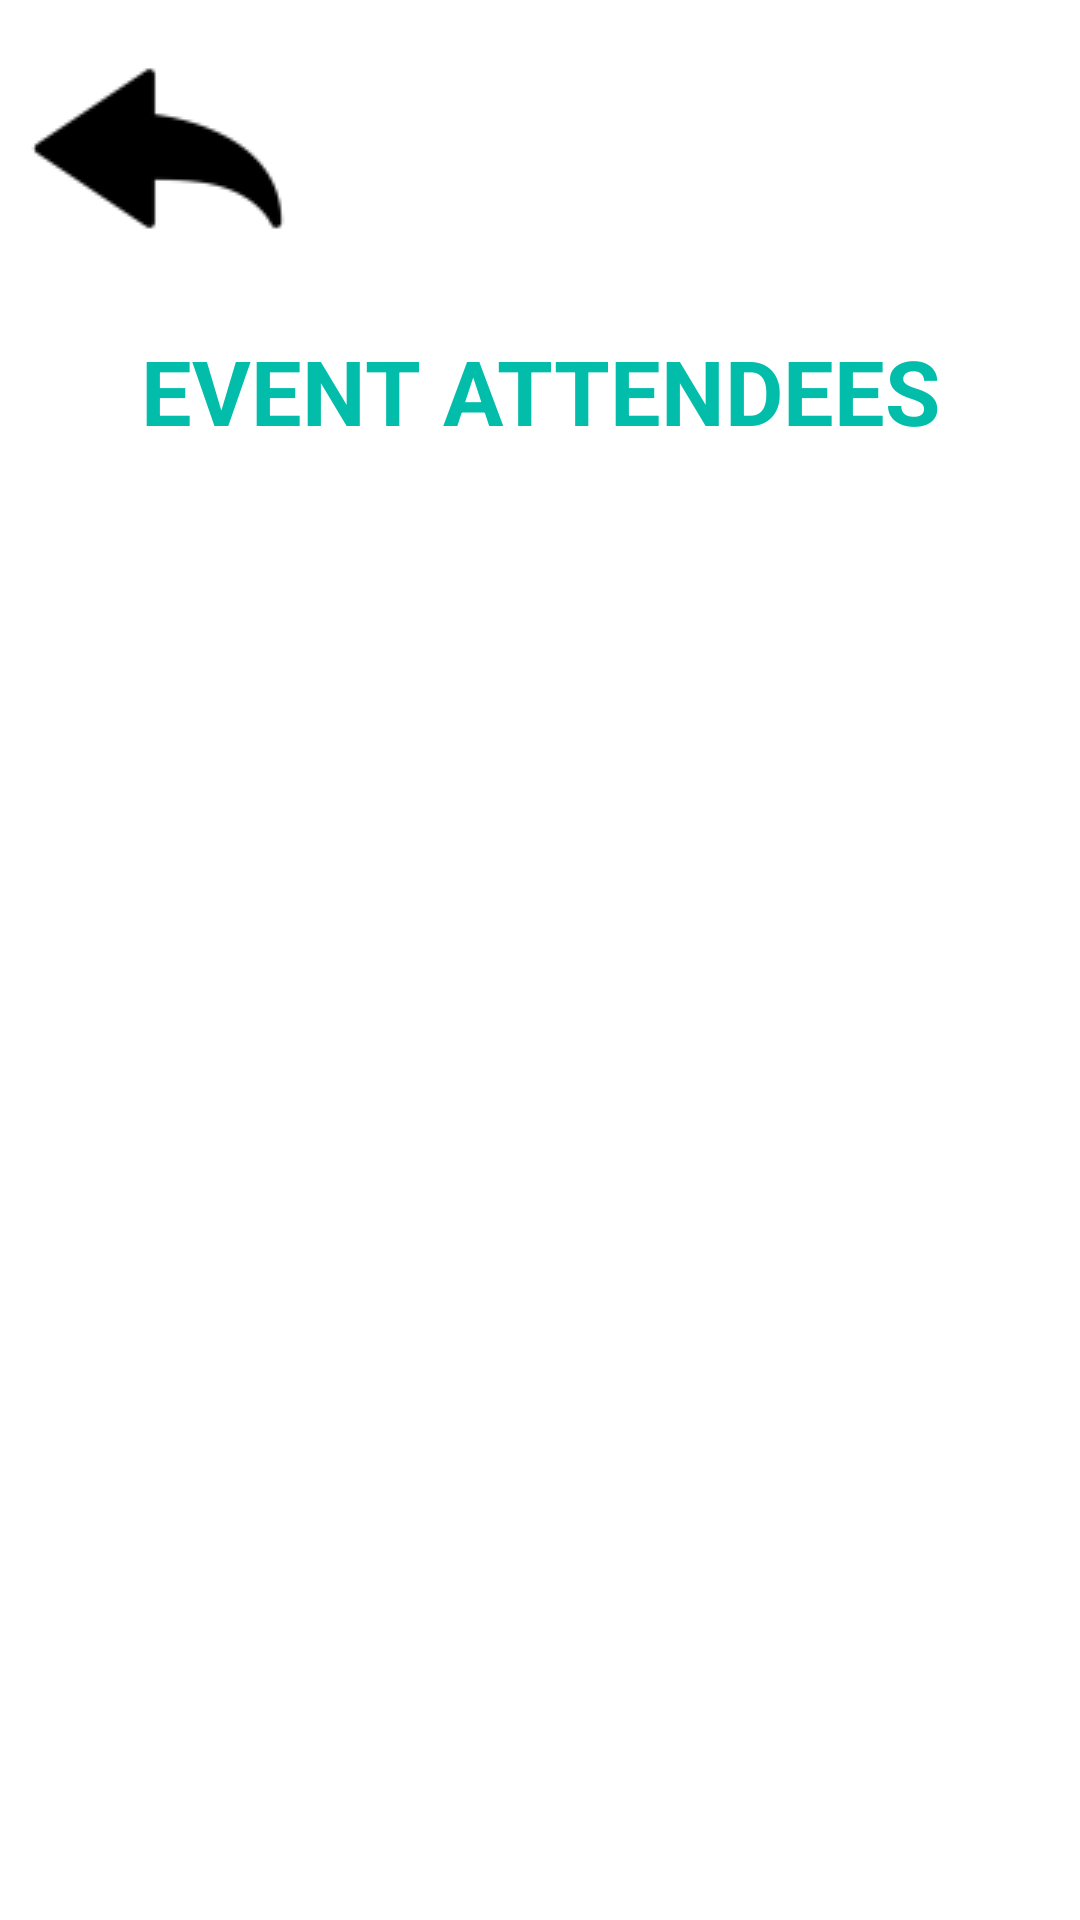

Screen size 1080 × 1920. Icon name, then its center in pixels as point (x, y):
back arrow image: point (158, 148)
